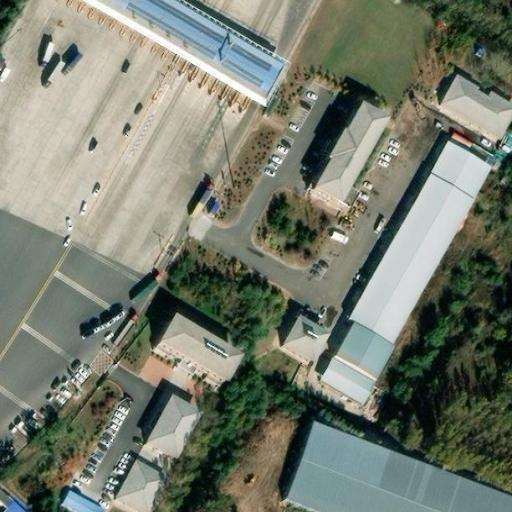building: (349, 140, 493, 342), (281, 416, 509, 512), (317, 100, 392, 201), (154, 316, 240, 385), (440, 74, 512, 140), (149, 394, 204, 457), (337, 321, 396, 377), (115, 458, 169, 512), (323, 354, 378, 402), (283, 315, 329, 361), (63, 489, 106, 512), (345, 185, 360, 204)
